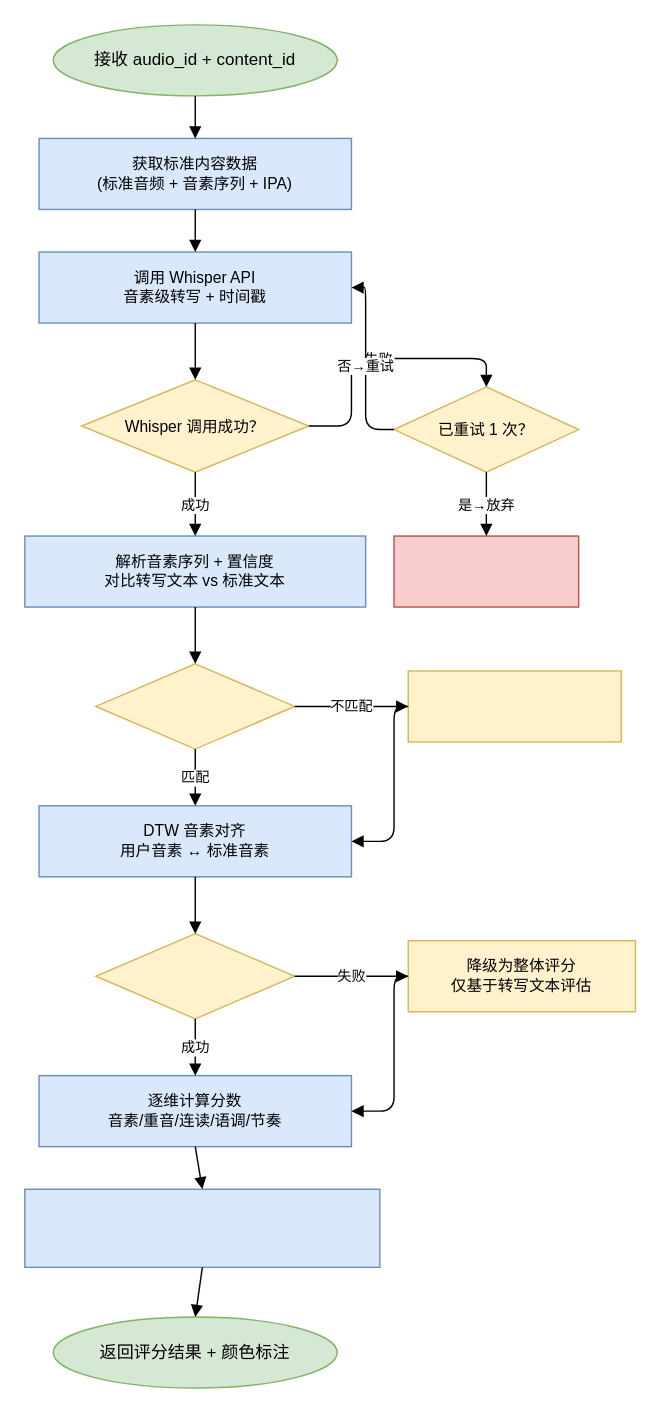
Some shapes in this 660 by 1413 pixel diagram are drawn without their labels. The centre of each missing label's shape, as x and y in pixels:
按模式加权求综合分 word: 50-25-25 | sentence: 40-15-15-15-15: the point at 201,1227
标记 warning 「可能读错内容」: the point at 514,706
转写与原文 匹配？: the point at 194,705
返回 504 评分服务繁忙: the point at 486,571
音素对齐成功？: the point at 194,975
